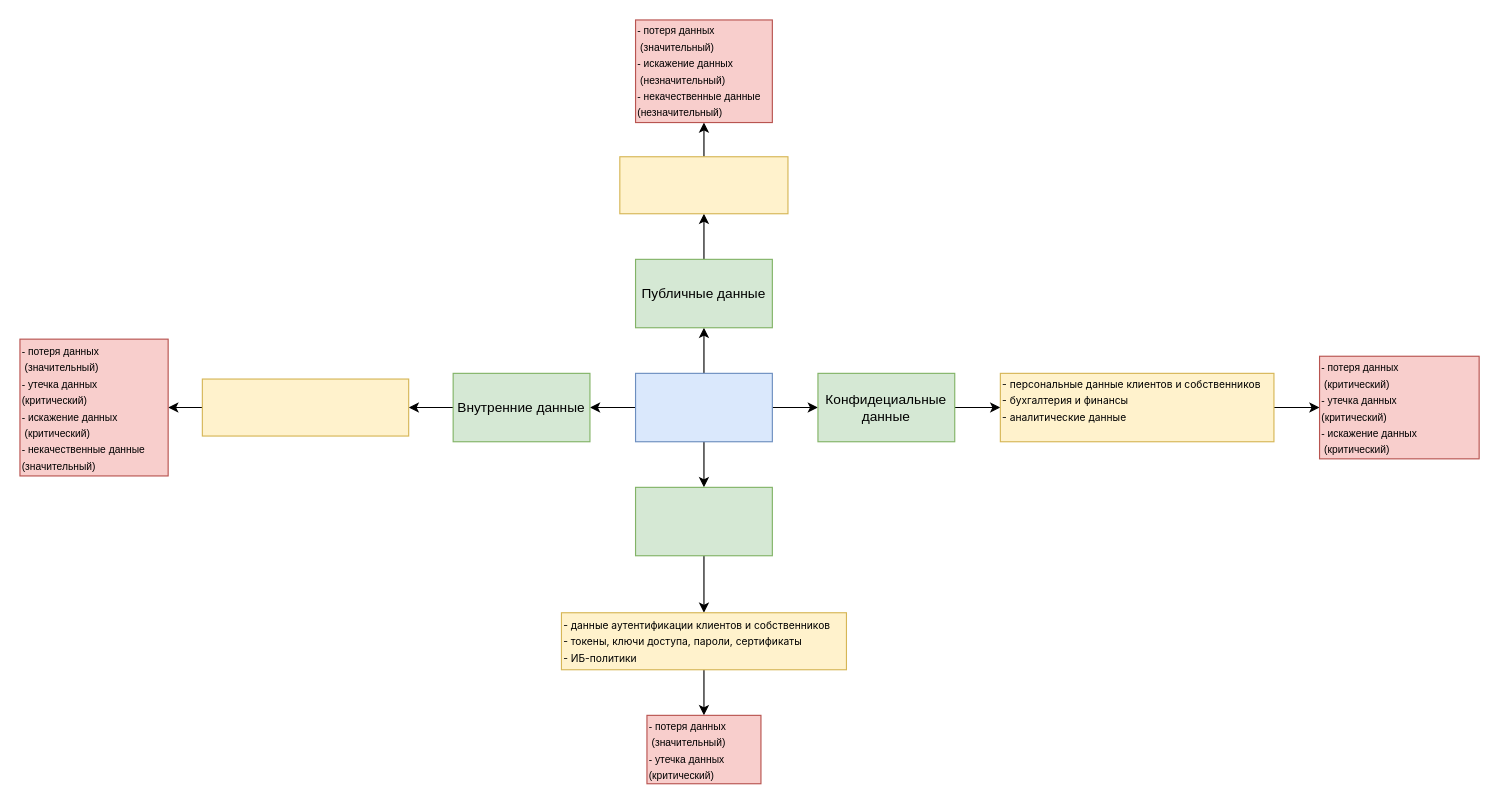
Some shapes in this 1499 by 804 pixel diagram are drawn without their labels. Here are the shapes that lost their labels. From the top down, the centre of each, then its label:
At (x=703, y=185): "- рекламные материалы - витрины продаж - публичные страницы".
At (x=305, y=407): "- документация - логи сервисов - отчеты об объектах недвижимости".
At (x=703, y=407): "Безопасность данных".
At (x=703, y=521): "Секретные данные".
